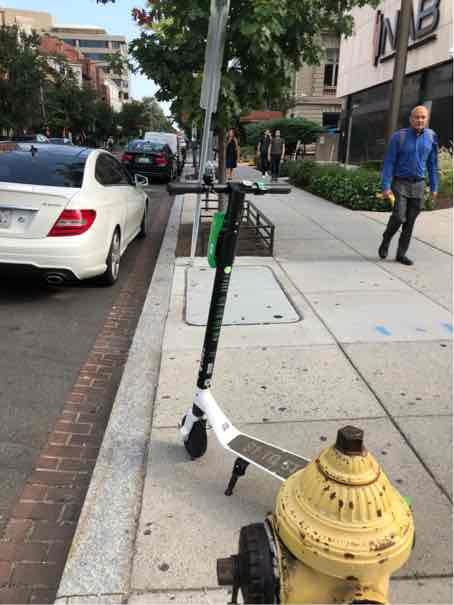scooter: (154, 166, 388, 521)
